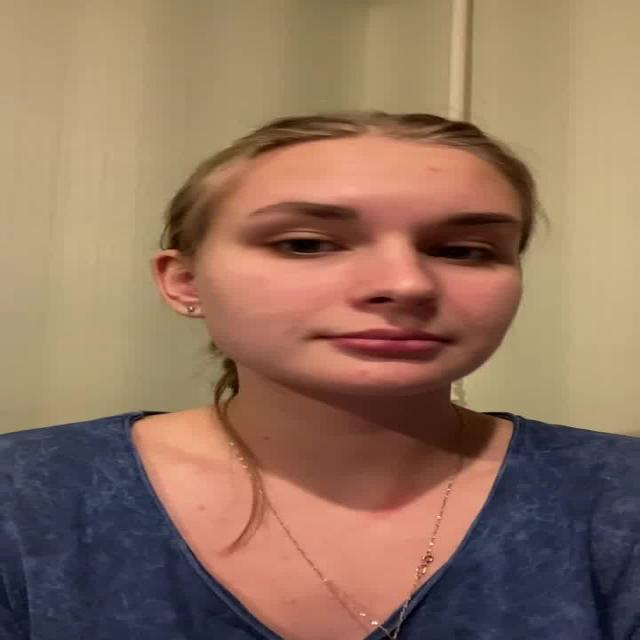earlobe: (178, 295, 206, 319)
eye: (272, 237, 348, 254), (422, 244, 493, 261)
nose: (354, 294, 457, 324)
wholeear: (153, 249, 206, 319)
